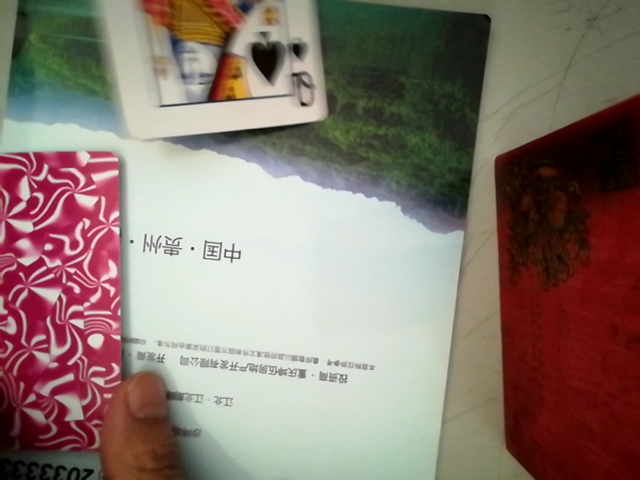ht q: (60, 0, 338, 152)
